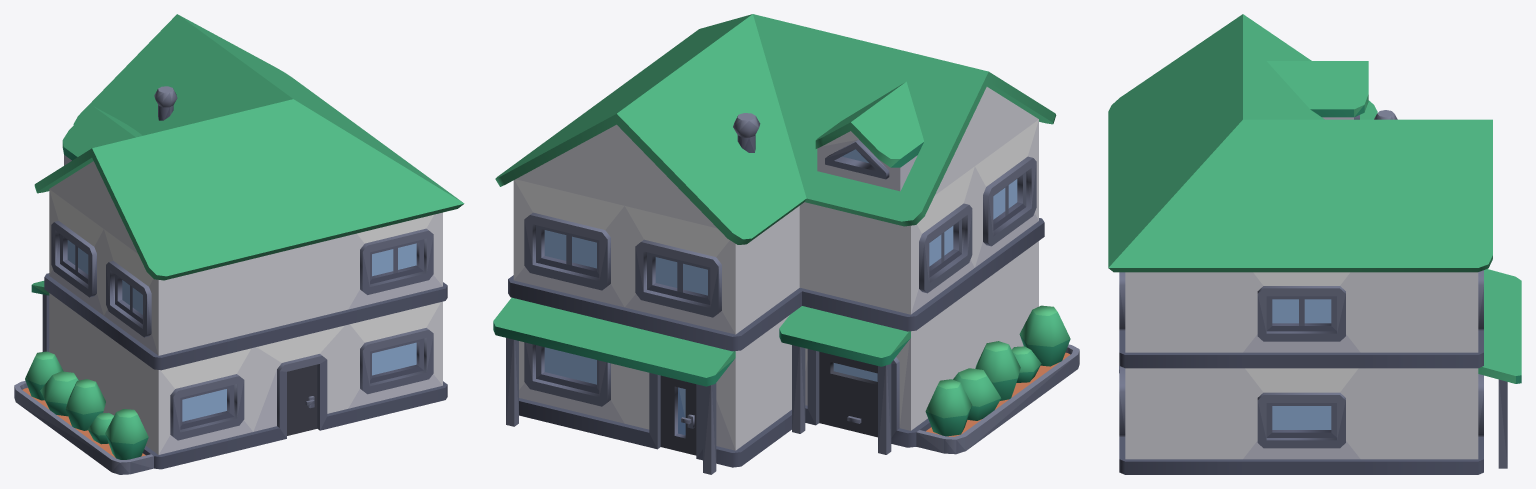
File: casa-2.glb
The picture shows the model from 3 angles, left to right: view 1: azimuth 30°, elevation 25°; view 2: azimuth 150°, elevation 25°; view 3: azimuth 270°, elevation 25°; orthographic projection. The views are drawn at different scales.
Visible parts, largest first — view 1: building-type-f; view 2: building-type-f; view 3: building-type-f.
Boxes of the visible parts, left/top/right/bottom form: building-type-f: left=14, top=14, right=464, bottom=474; building-type-f: left=493, top=14, right=1079, bottom=474; building-type-f: left=1108, top=14, right=1521, bottom=474.
Size of the model in its own units: 1.43 by 1.14 by 1.41.
